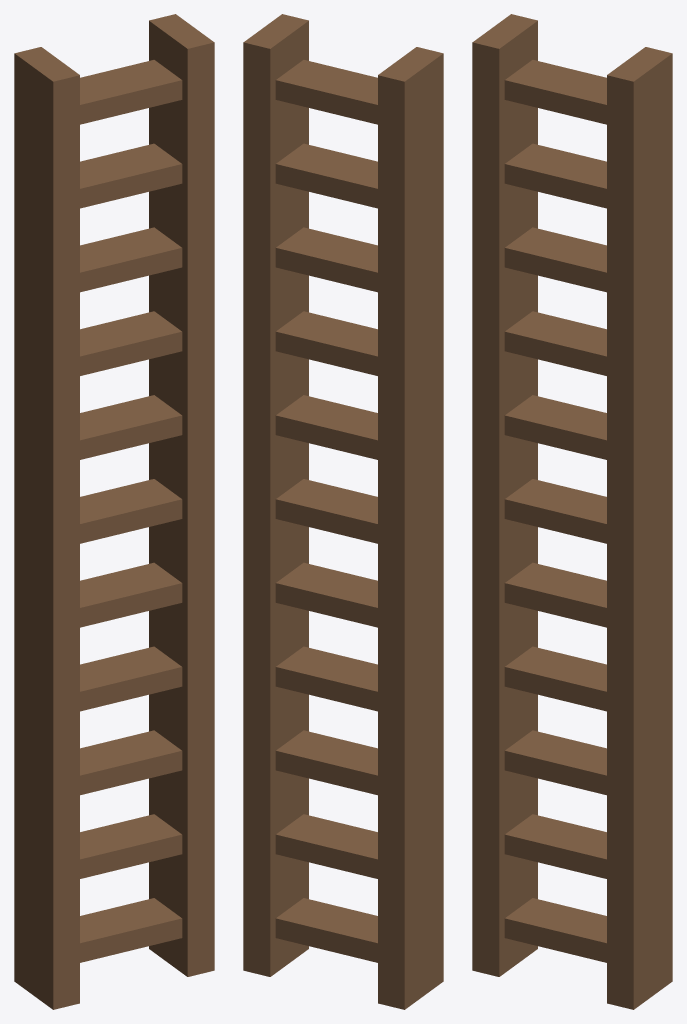
Rendered from CH_LADDER.fbx.
3 renders of one model, left to right at view 1: azimuth 30°, elevation 25°; view 2: azimuth 150°, elevation 25°; view 3: azimuth 330°, elevation 25°, orthographic.
Parts seen in each view (by area): view 1: CH_LADDER_LOD0; view 2: CH_LADDER_LOD0; view 3: CH_LADDER_LOD0.
Part boxes in pixels (x1,y1,x2,y2): CH_LADDER_LOD0: (14,14,214,1009); CH_LADDER_LOD0: (243,14,443,1009); CH_LADDER_LOD0: (472,14,672,1009).
Size of what is drawn, in the model's own units: 0.6 by 3.3 by 0.25.
